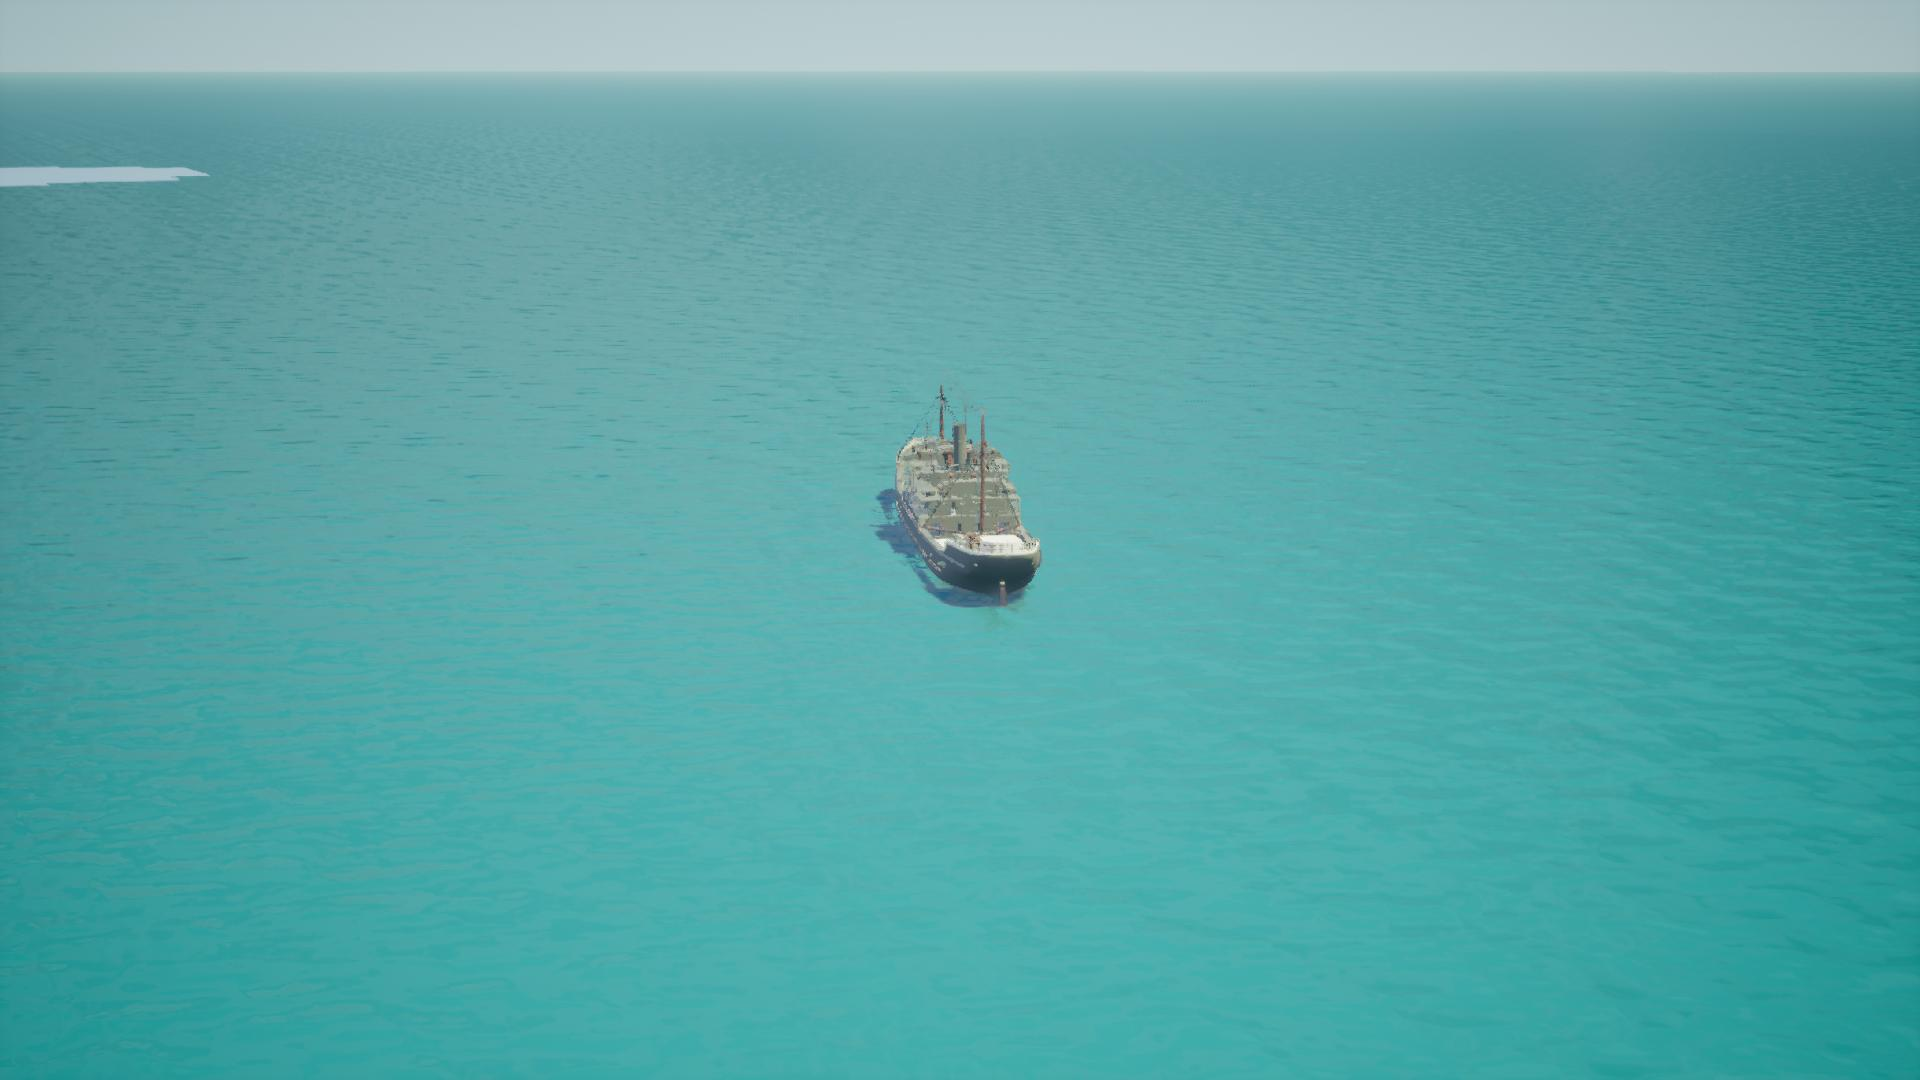Fishing Boat: (878, 381, 1043, 608)
